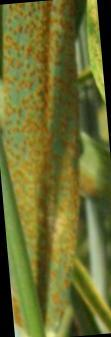Wheat: (1, 0, 78, 230)
